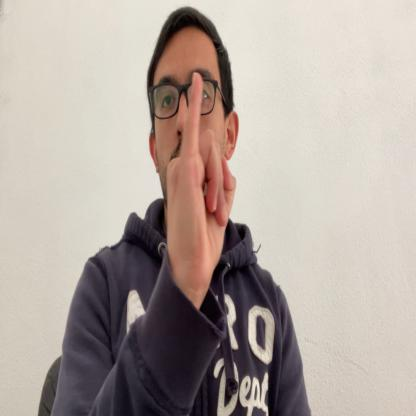I: (168, 72, 237, 288)
